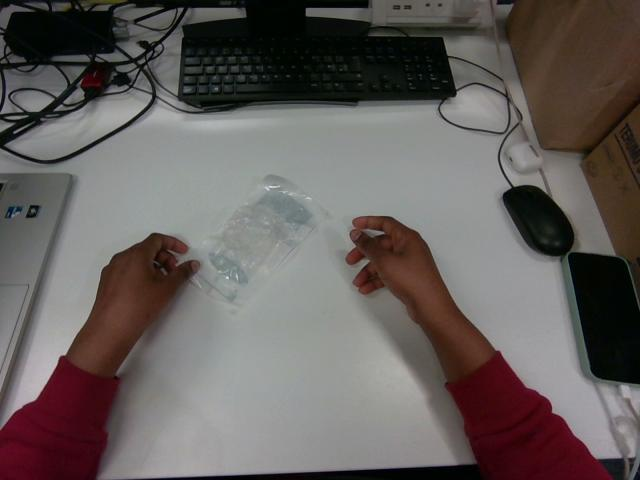gallipot: (190, 175, 326, 305)
